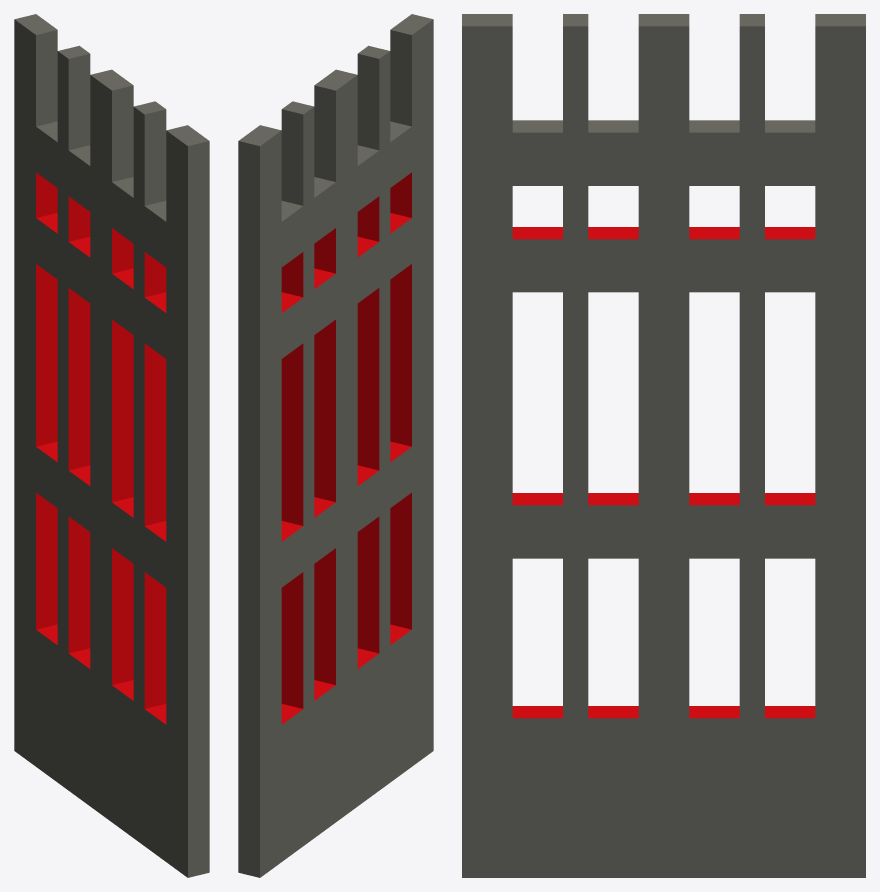
File: gate.fbx
3 views of the same model, side by side, from view 1: azimuth 30°, elevation 25°; view 2: azimuth 150°, elevation 25°; view 3: azimuth 270°, elevation 25° (orthographic). The views are drawn at different scales.
Parts seen in each view (by area): view 1: Cube.034; view 2: Cube.034; view 3: Cube.034.
Part boxes in pixels (box(x1,y1,x2,y2)): Cube.034: box(14, 14, 209, 877); Cube.034: box(238, 14, 433, 877); Cube.034: box(462, 14, 865, 877).
Bounding box in the file's own units: 28.07 × 905 × 389.
